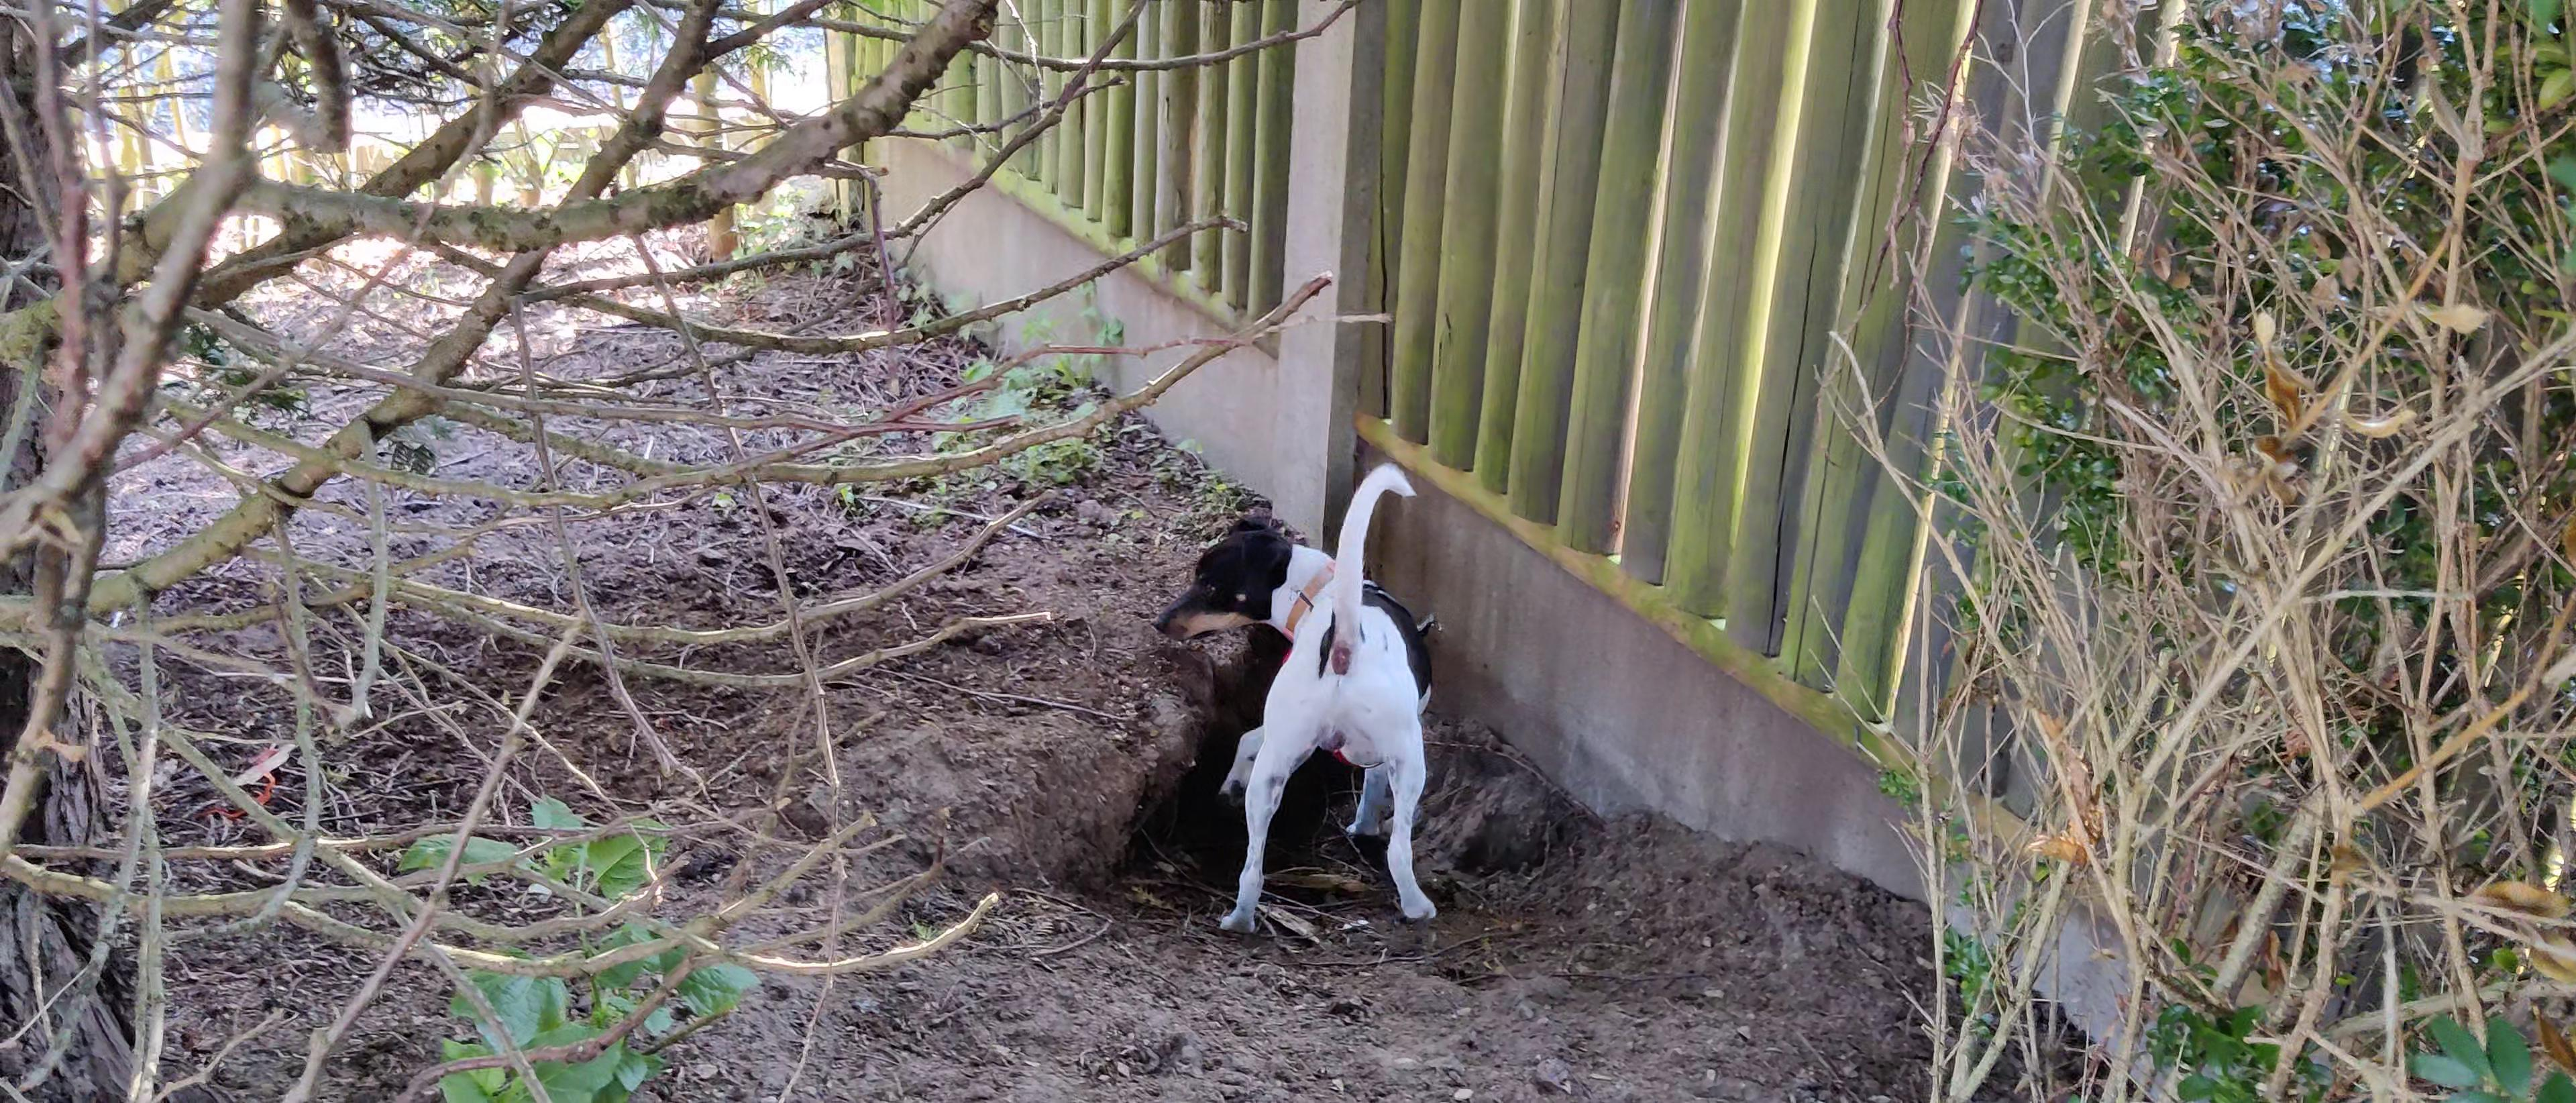Dog: (1145, 424, 1508, 947)
